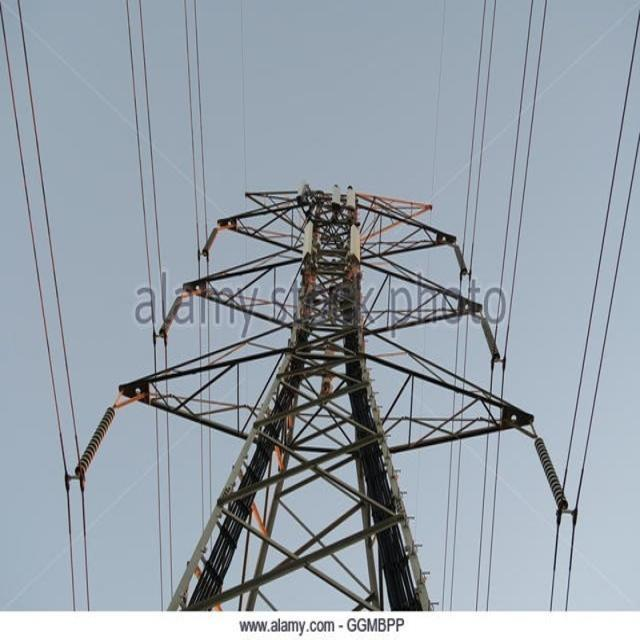non-critical vegetation: (60, 144, 551, 606)
